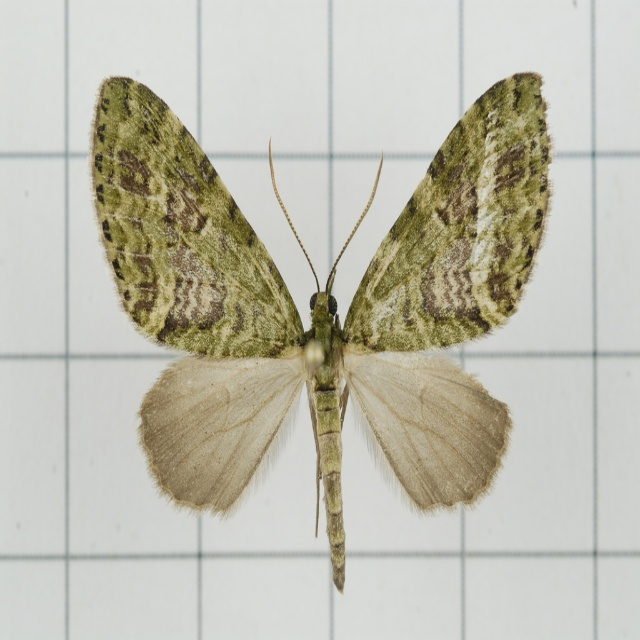Butterfly: (106, 87, 529, 607)
